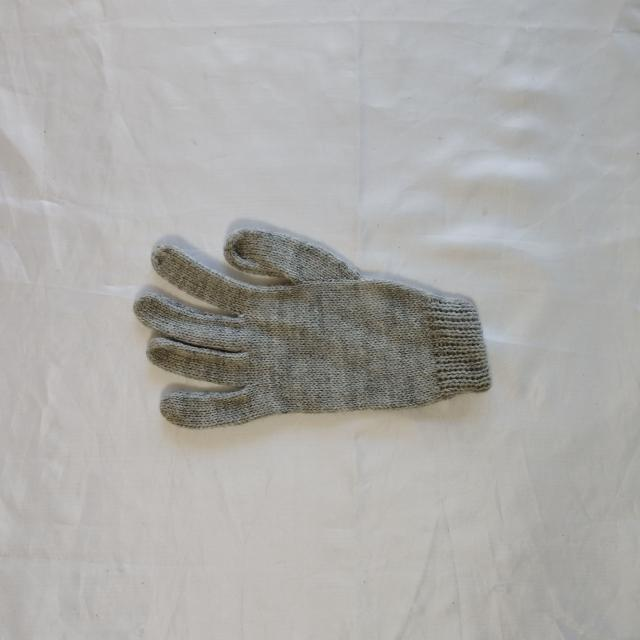Guante: (132, 223, 492, 430)
